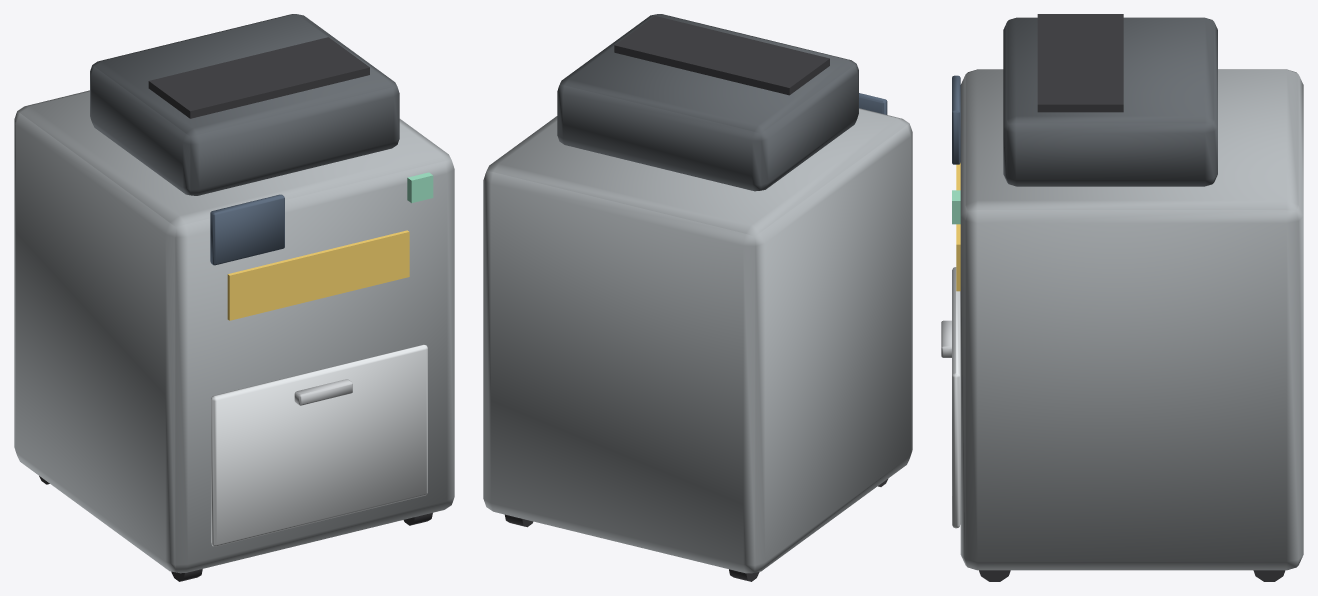
File: shredder.glb
The picture shows the model from 3 angles, left to right: view 1: azimuth 30°, elevation 25°; view 2: azimuth 150°, elevation 25°; view 3: azimuth 270°, elevation 25°; orthographic projection. The views are drawn at different scales.
Parts seen in each view (by area): view 1: Body; view 2: Body; view 3: Body.
Part boxes in pixels (bbox=[...]): Body: bbox=[14, 14, 454, 581]; Body: bbox=[483, 14, 912, 581]; Body: bbox=[941, 14, 1303, 581].
Size of the model in its own units: 0.8 by 1.18 by 0.845.
